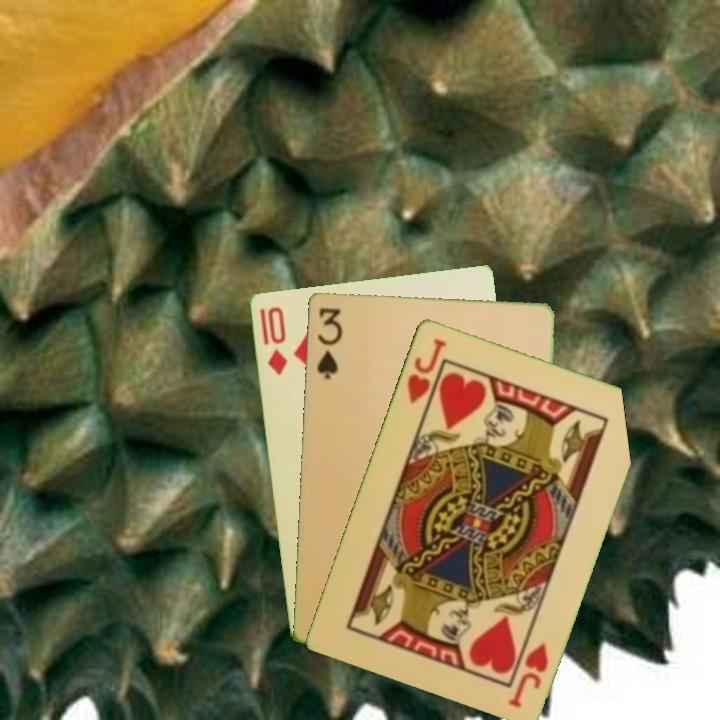10d: (255, 303, 290, 378)
3s: (313, 304, 345, 381)
Jh: (403, 334, 449, 416), (505, 638, 551, 710)
